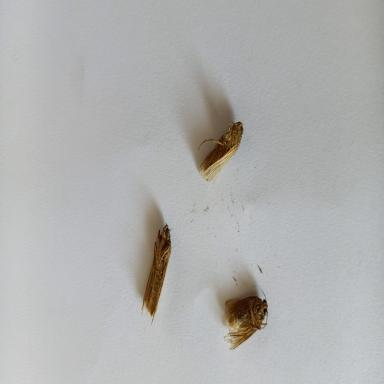pbw: (197, 118, 244, 184), (221, 288, 268, 354), (141, 222, 171, 324)
